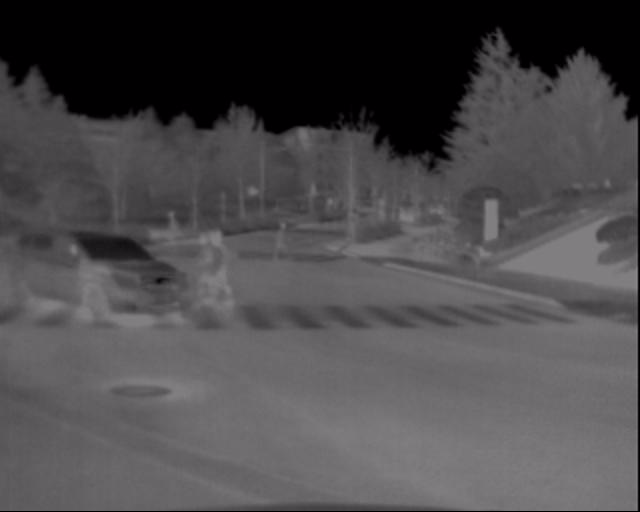person: (171, 221, 241, 312), (273, 221, 293, 260), (162, 213, 182, 251)
